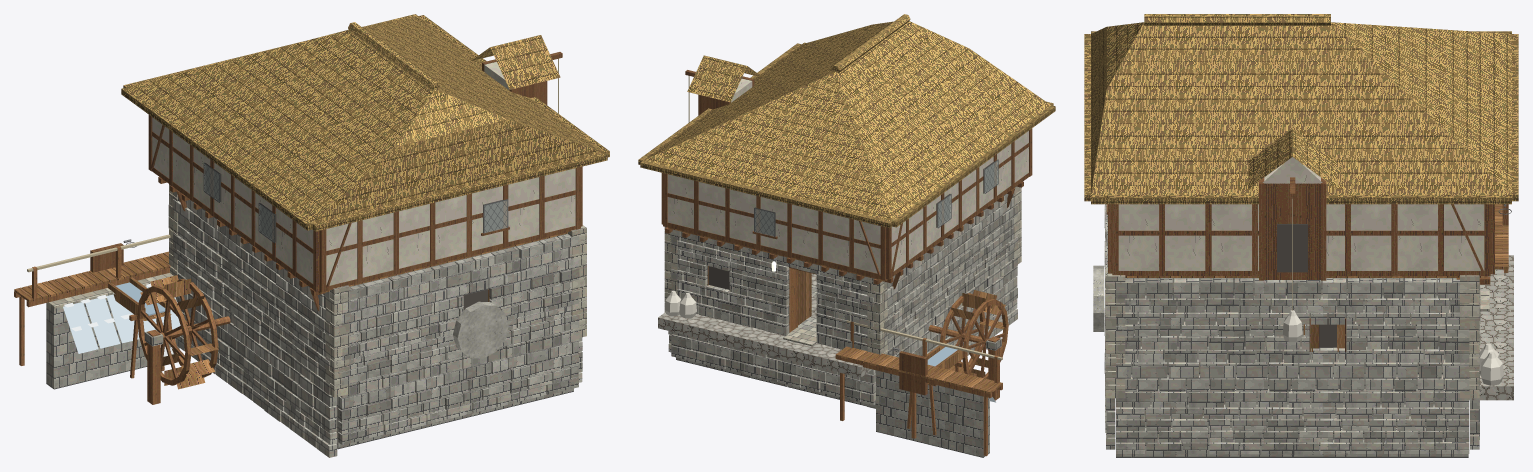
File: mill.glb
3 views of the same model, side by side, from view 1: azimuth 30°, elevation 25°; view 2: azimuth 150°, elevation 25°; view 3: azimuth 270°, elevation 25° (orthographic). The views are drawn at different scales.
Parts seen in each view (by area): view 1: Mill_Shell, Mill_Roof, Mill_UpperShell, Mill_Weir, Mill_WheelParts, Mill_WeirWalk, Mill_RoofLucam, Mill_Dressing, Mill_Leat, Mill_GlazingRecess, Mill_WheelBearing, Mill_GlazingRecessLeads (+1 smaller); view 2: Mill_Roof, Mill_Shell, Mill_UpperShell, Mill_Weir, Mill_FloorFlags, Mill_WeirWalk, Mill_WheelParts, Mill_RoofLucam, Mill_Leat, Mill_FrameGround, Mill_UpperJoists, Mill_GlazingRecess (+3 smaller); view 3: Mill_Roof, Mill_Shell, Mill_UpperShell, Mill_RoofLucam, Mill_FloorFlags, Mill_Dressing, Mill_FrameGround, Mill_WeirWalk, Mill_UpperFloorBoards.
Part boxes in pixels (box(x1,y1,x2,y2)): Mill_Shell: box(168, 184, 586, 457); Mill_Roof: box(121, 14, 609, 231); Mill_UpperShell: box(148, 115, 582, 292); Mill_Weir: box(46, 273, 180, 389); Mill_WheelParts: box(136, 275, 230, 389); Mill_WeirWalk: box(14, 234, 170, 365); Mill_RoofLucam: box(471, 35, 562, 113); Mill_Dressing: box(453, 301, 508, 358); Mill_Leat: box(90, 239, 166, 378); Mill_GlazingRecess: box(204, 164, 507, 242); Mill_WheelBearing: box(144, 329, 163, 404); Mill_GlazingRecessLeads: box(203, 162, 508, 242); Mill_Roof: box(638, 14, 1055, 228); Mill_Shell: box(664, 186, 1021, 408); Mill_UpperShell: box(661, 128, 1032, 280); Mill_Weir: box(876, 370, 995, 457); Mill_FloorFlags: box(658, 273, 871, 377); Mill_WeirWalk: box(835, 320, 1002, 456); Mill_WheelParts: box(928, 290, 1008, 379); Mill_RoofLucam: box(685, 55, 763, 122); Mill_Leat: box(888, 341, 963, 435); Mill_FrameGround: box(707, 258, 816, 332); Mill_UpperJoists: box(665, 181, 1023, 289); Mill_GlazingRecess: box(755, 161, 997, 236); Mill_Roof: box(1084, 14, 1518, 204); Mill_Shell: box(1104, 204, 1480, 457); Mill_UpperShell: box(1106, 204, 1494, 276); Mill_RoofLucam: box(1248, 129, 1336, 342); Mill_FloorFlags: box(1469, 255, 1513, 400); Mill_Dressing: box(1093, 265, 1503, 385); Mill_FrameGround: box(1303, 317, 1346, 351); Mill_WeirWalk: box(1495, 204, 1508, 272); Mill_UpperFloorBoards: box(1125, 276, 1487, 277).
Bounding box in the file's own units: 13.42 × 9.89 × 9.8.
Materials: 25 (13 with a texture image).
